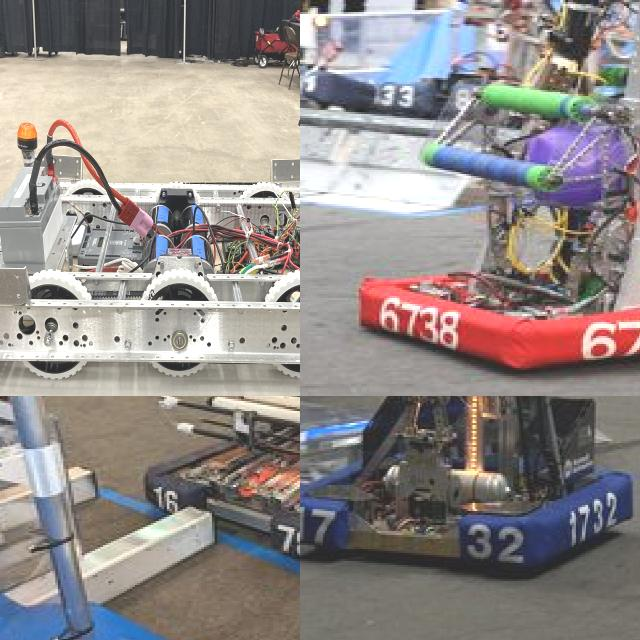FRC-Robots: (363, 0, 640, 364), (0, 121, 300, 381), (300, 396, 640, 578), (71, 396, 300, 561)
